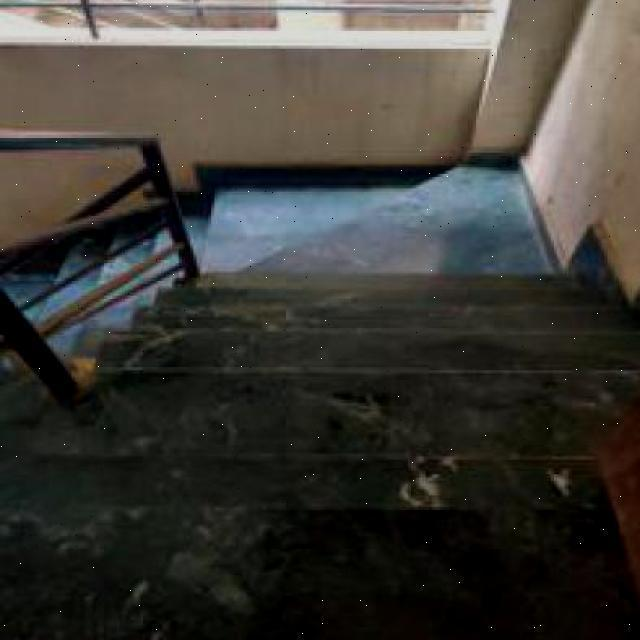stair: (89, 344, 586, 595)
